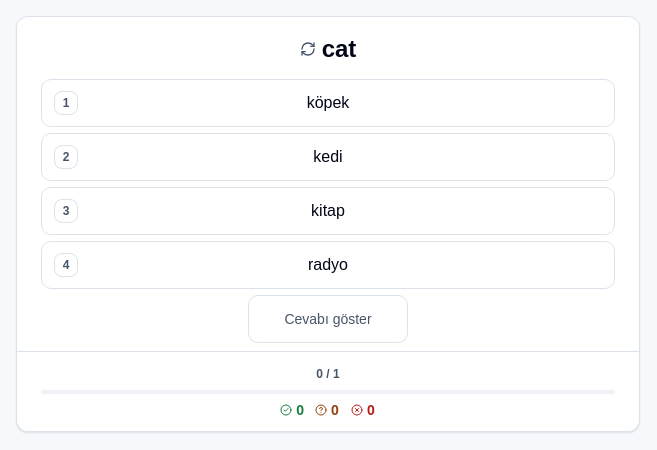
StudySessionPage › keeps topic questions focused on the question and marks reinforcement with an explanation
Expected: the heading "cat" is shown, x1=322 y1=33 x2=356 y2=65
Click the button named "Pekiştirme sorusu": (308, 49) x1=300 y1=41 x2=316 y2=57
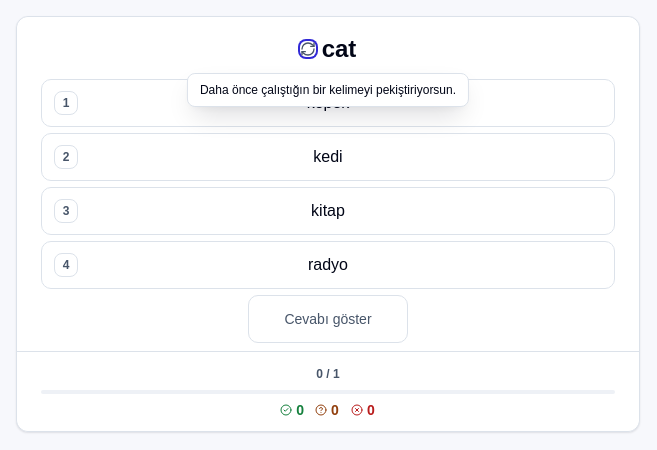
Expected: the button named "Pekiştirme sorusu" is expanded, x1=300 y1=41 x2=316 y2=57
Expected: the tooltip "Daha önce çalıştığın bir kelimeyi pekiştiriyorsun." is shown, x1=187 y1=73 x2=469 y2=107
Click the heading "cat": (339, 49) x1=322 y1=33 x2=356 y2=65
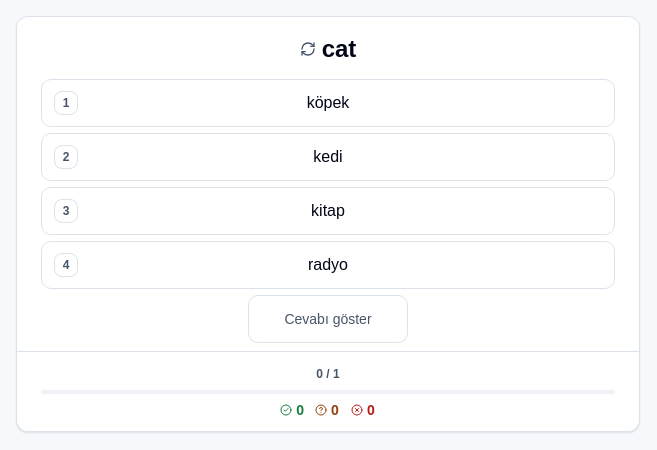
Expected: the tooltip "Daha önce çalıştığın bir kelimeyi pekiştiriyorsun." is gone
